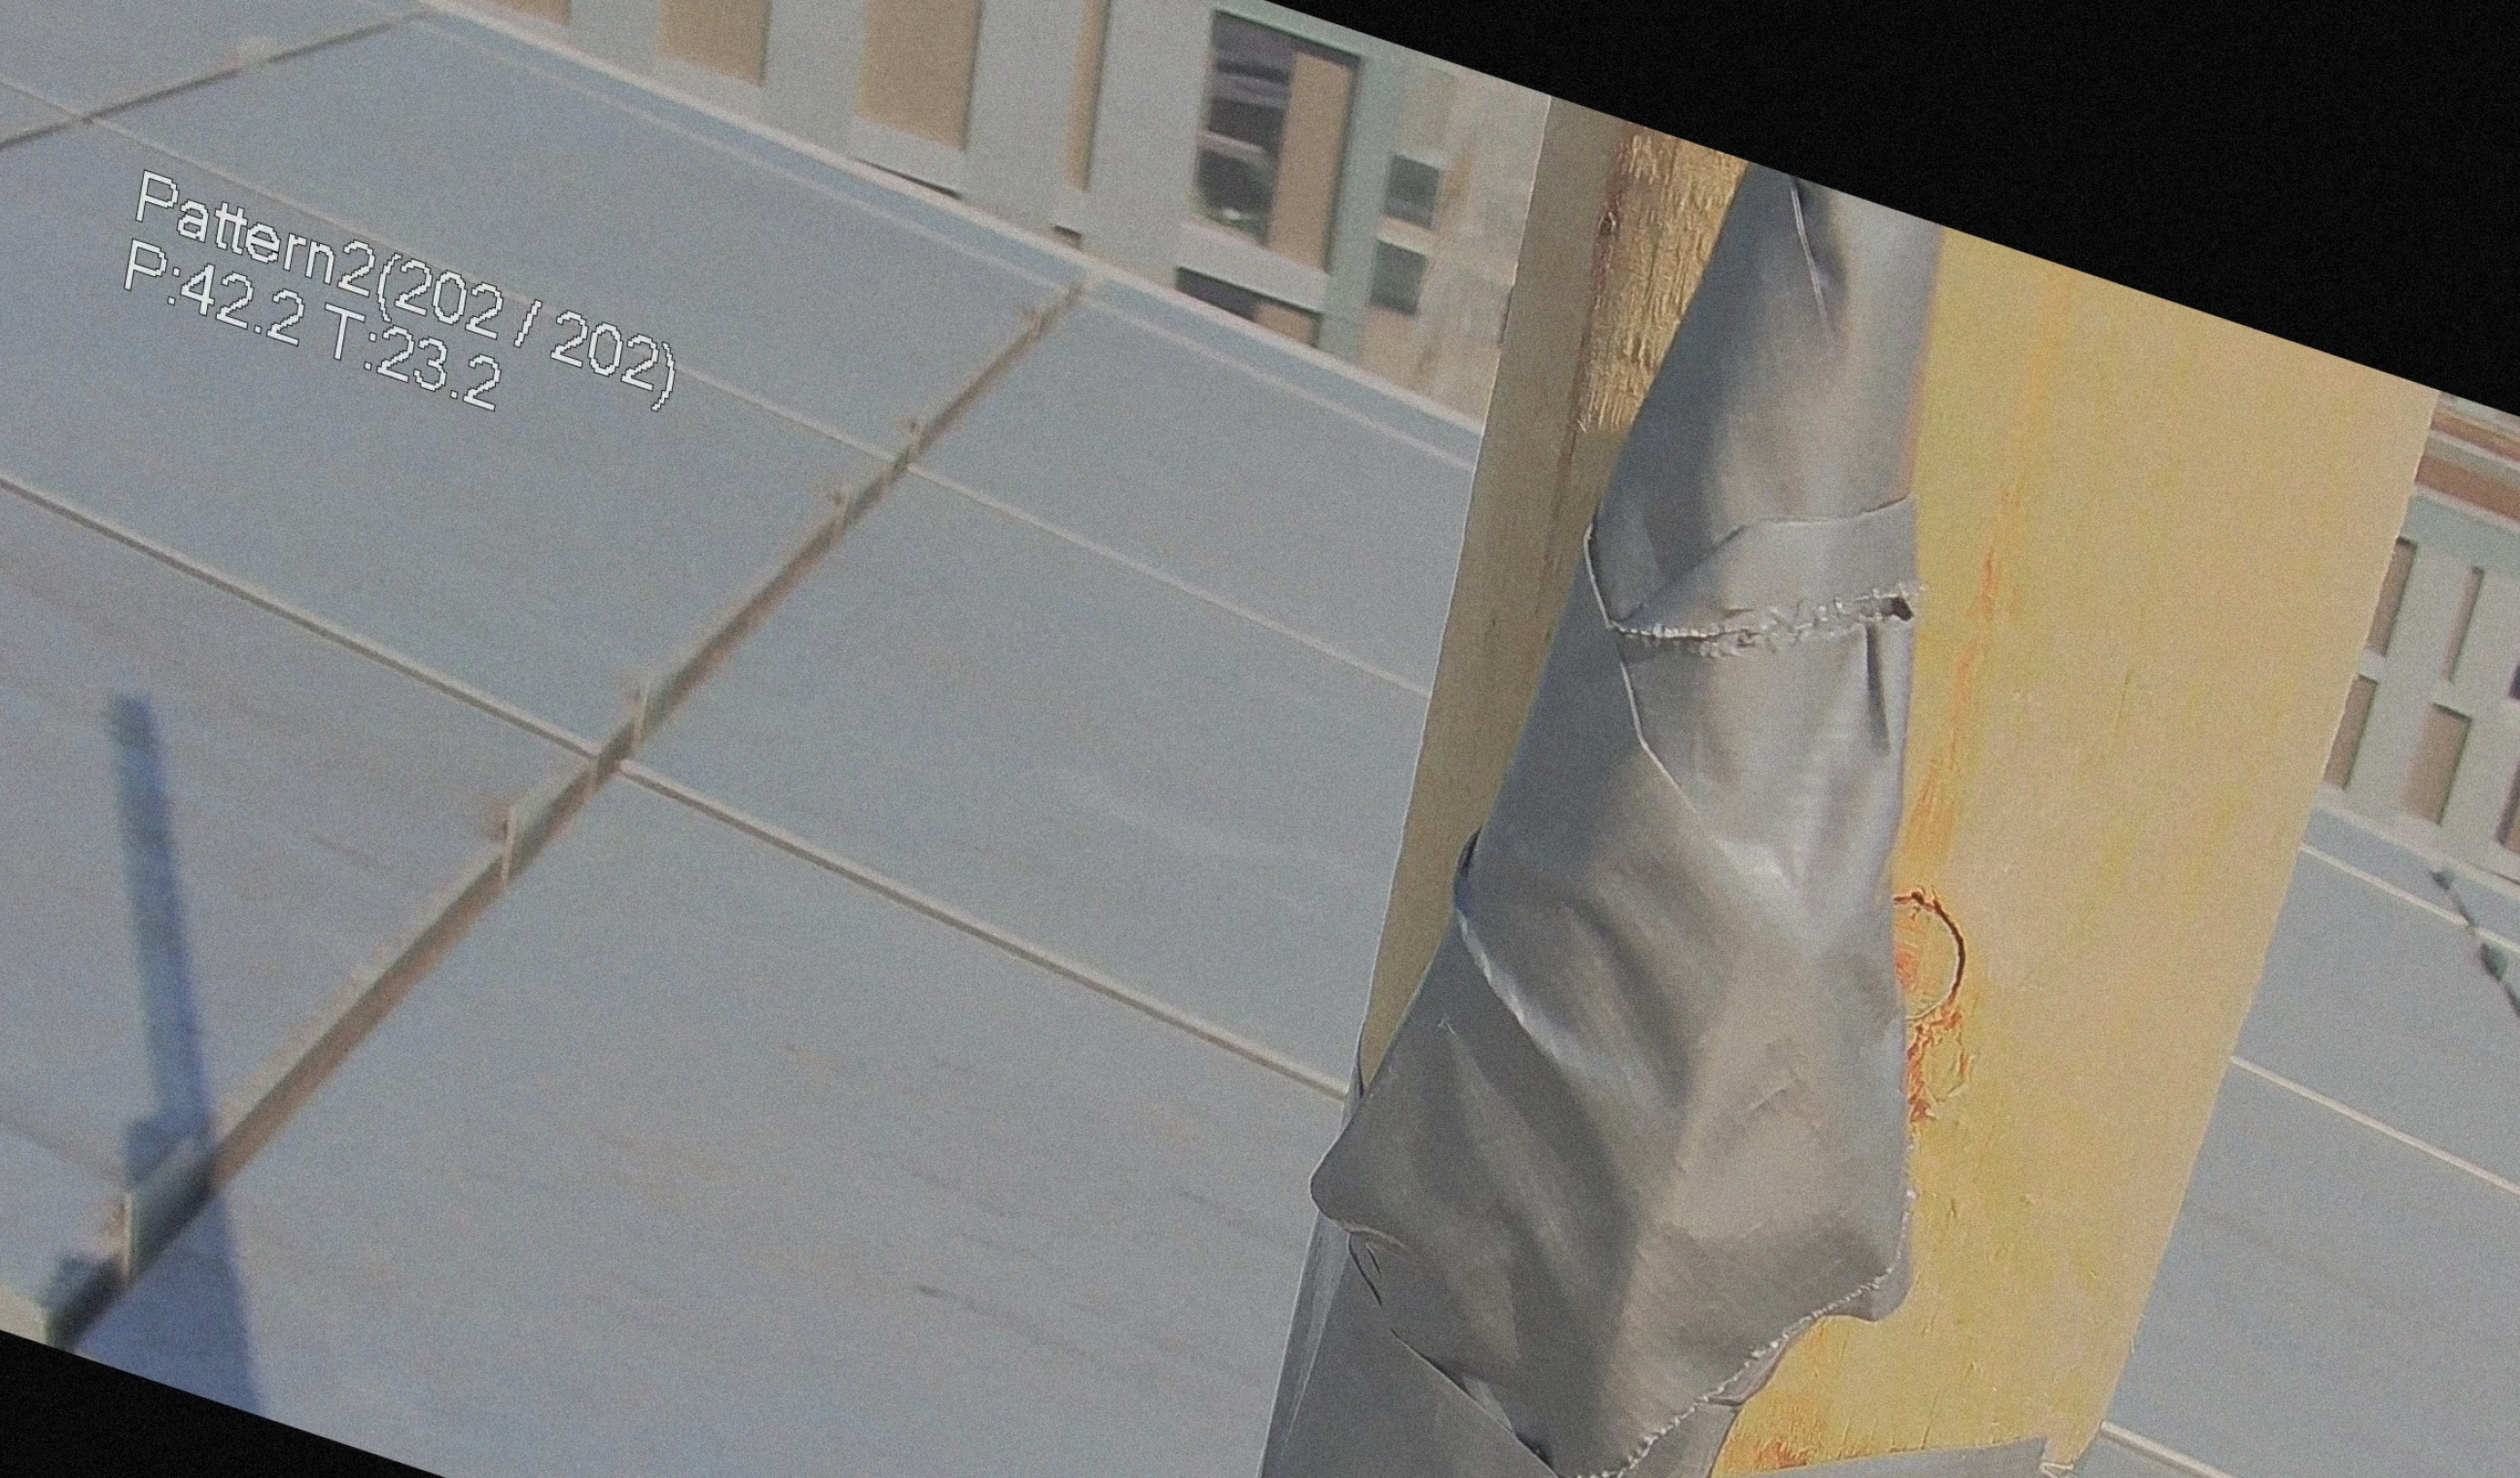Other: (1270, 104, 2084, 1478)
